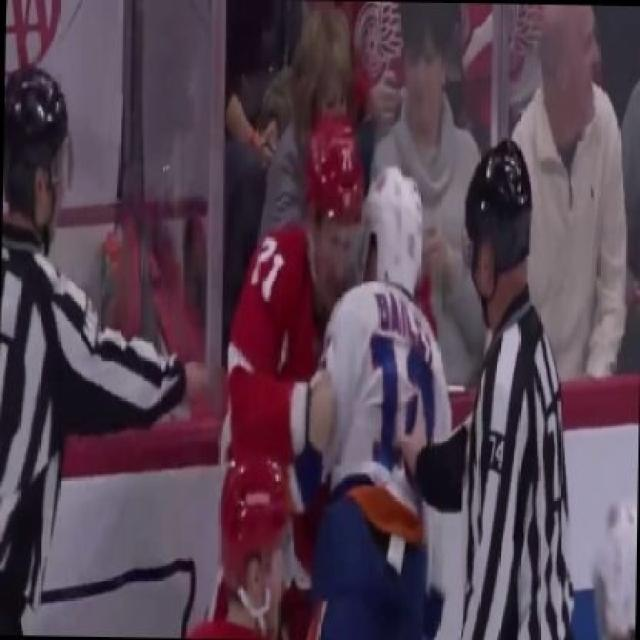fight: (214, 108, 453, 640)
non-fight: (0, 61, 175, 630), (446, 98, 576, 637)
